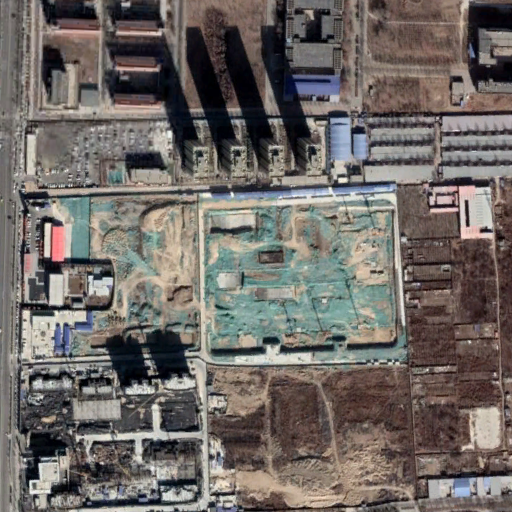cw: (205, 200, 405, 365), (58, 196, 197, 356)
